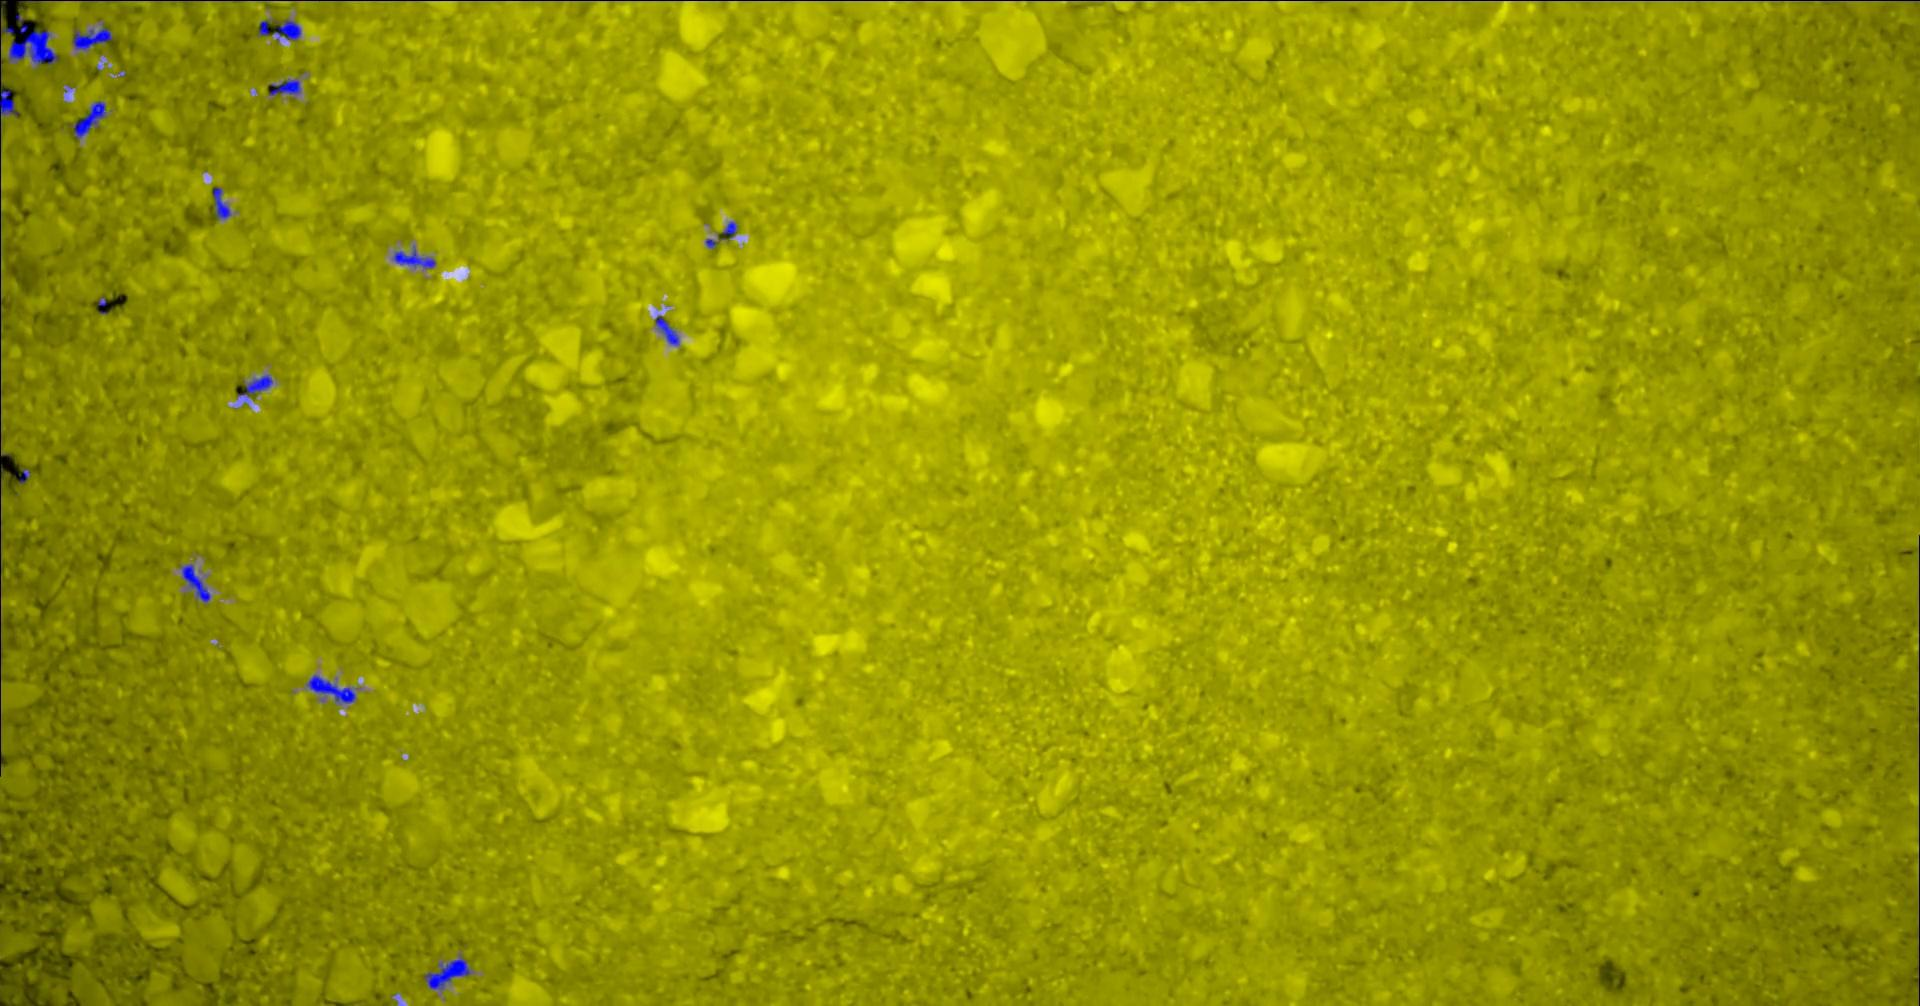ant: (424, 955, 470, 989), (306, 674, 356, 702), (72, 100, 105, 138), (182, 563, 210, 602), (392, 245, 436, 268), (71, 27, 112, 50), (258, 19, 300, 39), (237, 373, 272, 398), (654, 315, 679, 344), (268, 77, 300, 95), (212, 187, 230, 218), (0, 89, 18, 116), (0, 8, 14, 39), (717, 221, 737, 239)
